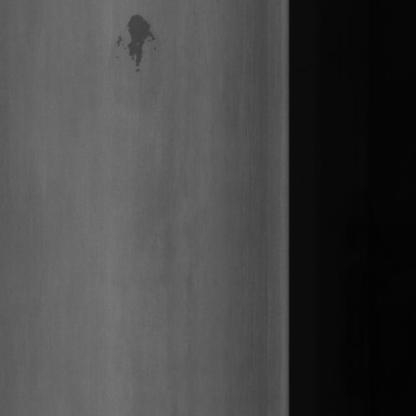oil_spot: (118, 8, 154, 86)
